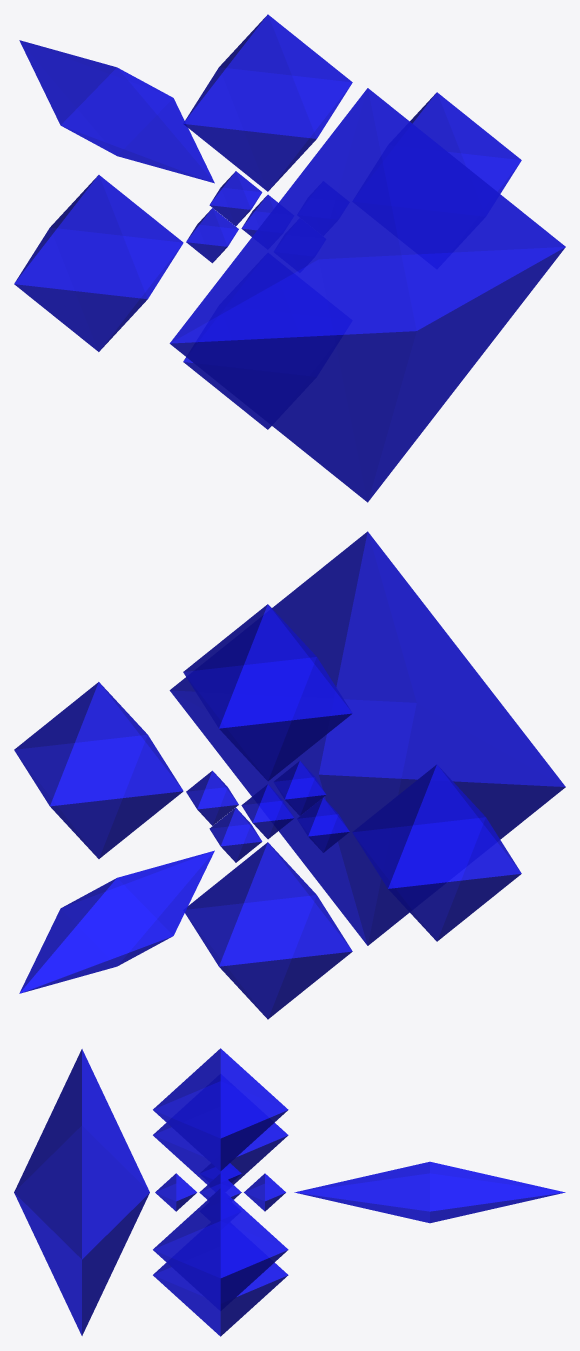
Rendered from Screams Geometrically.FBX.
The picture shows the model from 3 angles, top to bottom: view 1: azimuth 30°, elevation 25°; view 2: azimuth 150°, elevation 25°; view 3: azimuth 270°, elevation 25°; orthographic projection. The views are drawn at different scales.
Visible parts, largest first — view 1: Sphere001; view 2: Sphere001; view 3: Sphere001.
Part boxes in pixels (x1=…): Sphere001: x1=14, y1=14, x2=565, y2=502; Sphere001: x1=14, y1=531, x2=565, y2=1019; Sphere001: x1=14, y1=1048, x2=565, y2=1336.
Size of the model in its own units: 1638 by 1281 by 2222.
